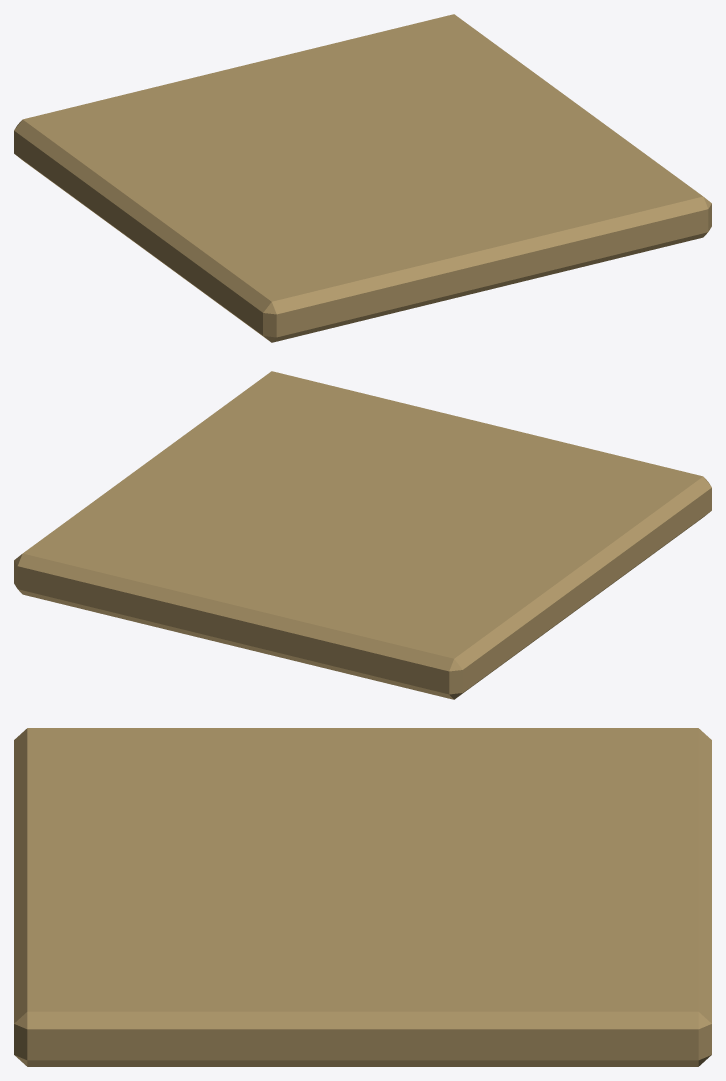
The model's file is coast-beach-straight.lod0.glb.
3 views of the same model, one above another, from view 1: azimuth 30°, elevation 25°; view 2: azimuth 150°, elevation 25°; view 3: azimuth 270°, elevation 25° (orthographic). The views are drawn at different scales.
Visible parts, largest first — view 1: coast-beach-straight__body; view 2: coast-beach-straight__body; view 3: coast-beach-straight__body.
Part boxes in pixels (bbox=[...]): coast-beach-straight__body: bbox=[14, 14, 711, 342]; coast-beach-straight__body: bbox=[14, 371, 711, 699]; coast-beach-straight__body: bbox=[14, 728, 711, 1066].
Size of the model in its own units: 4 by 0.35 by 4.
